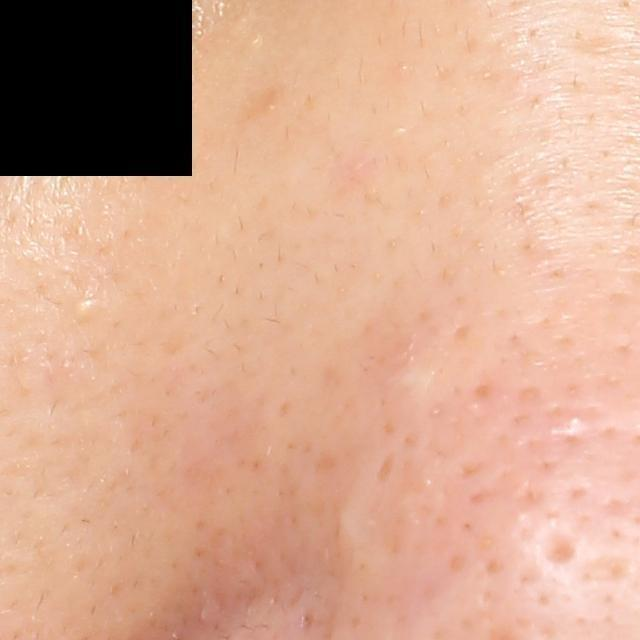atrophic_scar: (538, 524, 588, 576)
comedo: (69, 293, 105, 321)
hypertrophic_scar: (317, 465, 389, 588), (375, 339, 458, 409)
